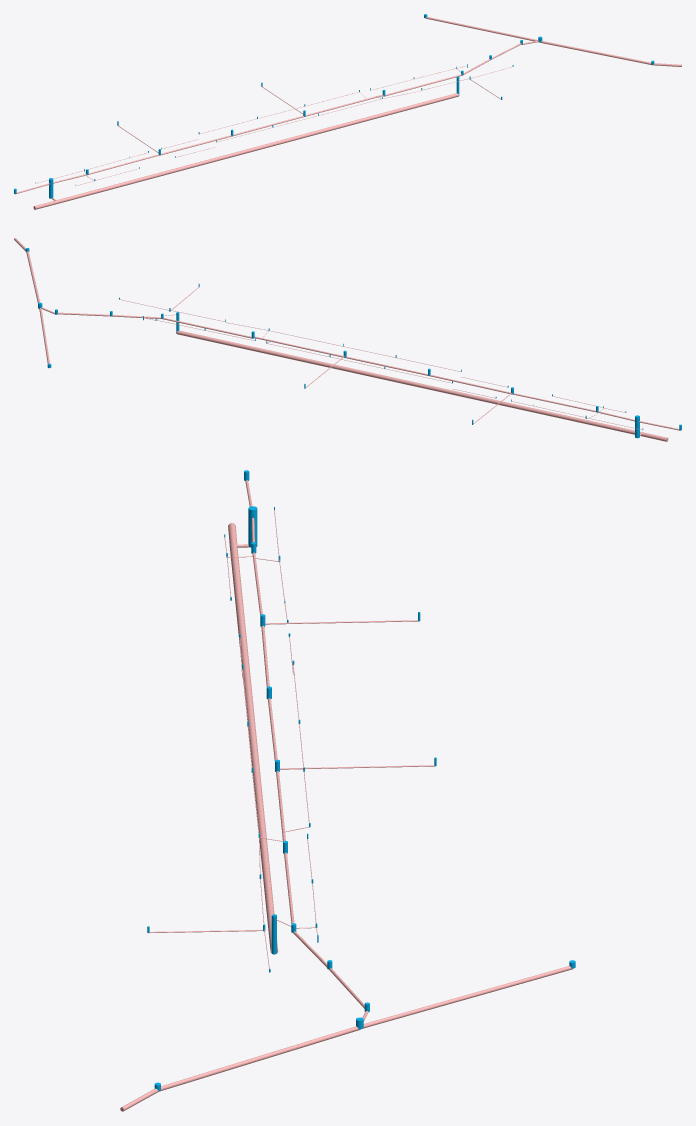
The model's file is 大宮管渠人孔-世界測地赤青.glb.
3 views of the same model, one above another, from view 1: azimuth 30°, elevation 25°; view 2: azimuth 150°, elevation 25°; view 3: azimuth 270°, elevation 25° (orthographic). The views are drawn at different scales.
Visible parts, largest first — view 1: product-ba79e4c1-d5e4-4f61-8cc9-5f5448379516-body, product-ba79e4c1-d5e4-4f61-8cc9-5f5448379521-body; view 2: product-ba79e4c1-d5e4-4f61-8cc9-5f5448379516-body, product-ba79e4c1-d5e4-4f61-8cc9-5f5448379521-body; view 3: product-ba79e4c1-d5e4-4f61-8cc9-5f5448379521-body, product-ba79e4c1-d5e4-4f61-8cc9-5f5448379516-body, product-ba79e4c1-d5e4-4f61-8cc9-5f54483795d2-body.
Part boxes in pixels (x1,y1,x2,y2): product-ba79e4c1-d5e4-4f61-8cc9-5f5448379516-body: [252, 93, 458, 151]; product-ba79e4c1-d5e4-4f61-8cc9-5f5448379521-body: [56, 148, 252, 203]; product-ba79e4c1-d5e4-4f61-8cc9-5f5448379516-body: [176, 330, 415, 386]; product-ba79e4c1-d5e4-4f61-8cc9-5f5448379521-body: [415, 382, 641, 436]; product-ba79e4c1-d5e4-4f61-8cc9-5f5448379521-body: [230, 545, 257, 742]; product-ba79e4c1-d5e4-4f61-8cc9-5f5448379516-body: [250, 741, 278, 954]; product-ba79e4c1-d5e4-4f61-8cc9-5f54483795d2-body: [373, 966, 572, 1024].
Size of the model in its own units: 572 by 19.81 by 177.
